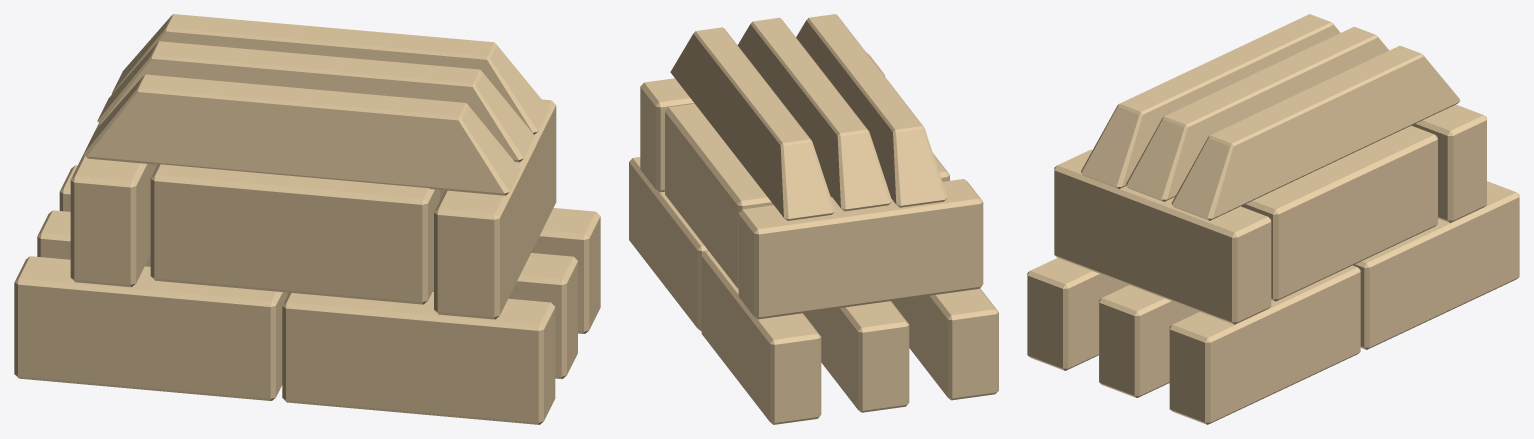
The picture shows the model from 3 angles, left to right: view 1: azimuth 30°, elevation 25°; view 2: azimuth 150°, elevation 25°; view 3: azimuth 270°, elevation 25°; orthographic projection. The views are drawn at different scales.
Parts seen in each view (by area): view 1: CUBE_ROOF.017, CUBE_LON.072, CUBE_LON.063, CUBE_LON.057, CUBE_ROOF.043, CUBE_LON.069, CUBE_ROOF.020, CUBE_LON.122, CUBE_LON.065, CUBE_LON.067, CUBE_LON.118; view 2: CUBE_LON.122, CUBE_ROOF.020, CUBE_LON.066, CUBE_ROOF.043, CUBE_ROOF.017, CUBE_LON.125, CUBE_LON.057, CUBE_LON.118, CUBE_LON.067, CUBE_LON.069; view 3: CUBE_LON.069, CUBE_ROOF.020, CUBE_LON.125, CUBE_LON.067, CUBE_LON.066, CUBE_ROOF.043, CUBE_ROOF.017, CUBE_LON.063, CUBE_LON.065, CUBE_LON.122.
Part boxes in pixels (x1,y1,x2,y2): CUBE_ROOF.017: [83, 74, 520, 195]; CUBE_LON.072: [150, 164, 439, 304]; CUBE_LON.063: [282, 292, 555, 424]; CUBE_LON.057: [14, 256, 287, 400]; CUBE_ROOF.043: [97, 41, 534, 162]; CUBE_LON.069: [434, 99, 556, 319]; CUBE_ROOF.020: [111, 14, 549, 134]; CUBE_LON.122: [70, 123, 157, 287]; CUBE_LON.065: [432, 253, 577, 378]; CUBE_LON.067: [531, 208, 600, 333]; CUBE_LON.118: [37, 210, 288, 295]; CUBE_LON.122: [738, 179, 983, 319]; CUBE_ROOF.020: [670, 27, 834, 220]; CUBE_LON.066: [701, 251, 821, 424]; CUBE_ROOF.043: [737, 17, 892, 211]; CUBE_ROOF.017: [796, 14, 947, 207]; CUBE_LON.125: [665, 103, 773, 288]; CUBE_LON.057: [891, 288, 998, 400]; CUBE_LON.118: [803, 301, 909, 412]; CUBE_LON.067: [629, 157, 708, 331]; CUBE_LON.069: [640, 52, 884, 192]; CUBE_LON.069: [1054, 149, 1271, 324]; CUBE_ROOF.020: [1171, 45, 1460, 220]; CUBE_LON.125: [1241, 125, 1437, 301]; CUBE_LON.067: [1169, 265, 1360, 424]; CUBE_LON.066: [1353, 181, 1519, 349]; CUBE_ROOF.043: [1126, 26, 1388, 201]; CUBE_ROOF.017: [1081, 14, 1340, 188]; CUBE_LON.063: [1027, 258, 1128, 370]; CUBE_LON.065: [1099, 285, 1199, 397]; CUBE_LON.122: [1412, 104, 1486, 222].
Size of the model in its own units: 19.43 by 10.34 by 18.77.
